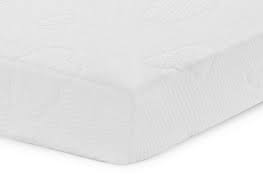bed-matress: (1, 1, 261, 167)
